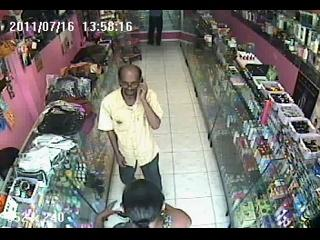Normal: (96, 64, 164, 192), (93, 179, 192, 228), (146, 10, 164, 46)
